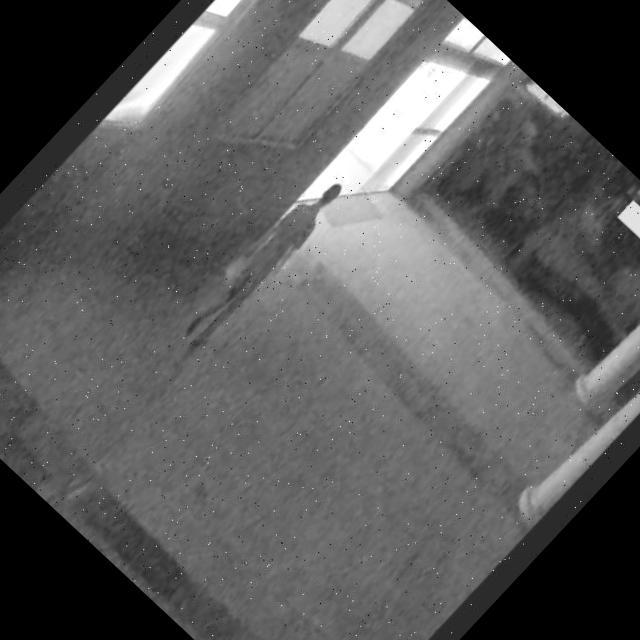person: (162, 163, 360, 370)
